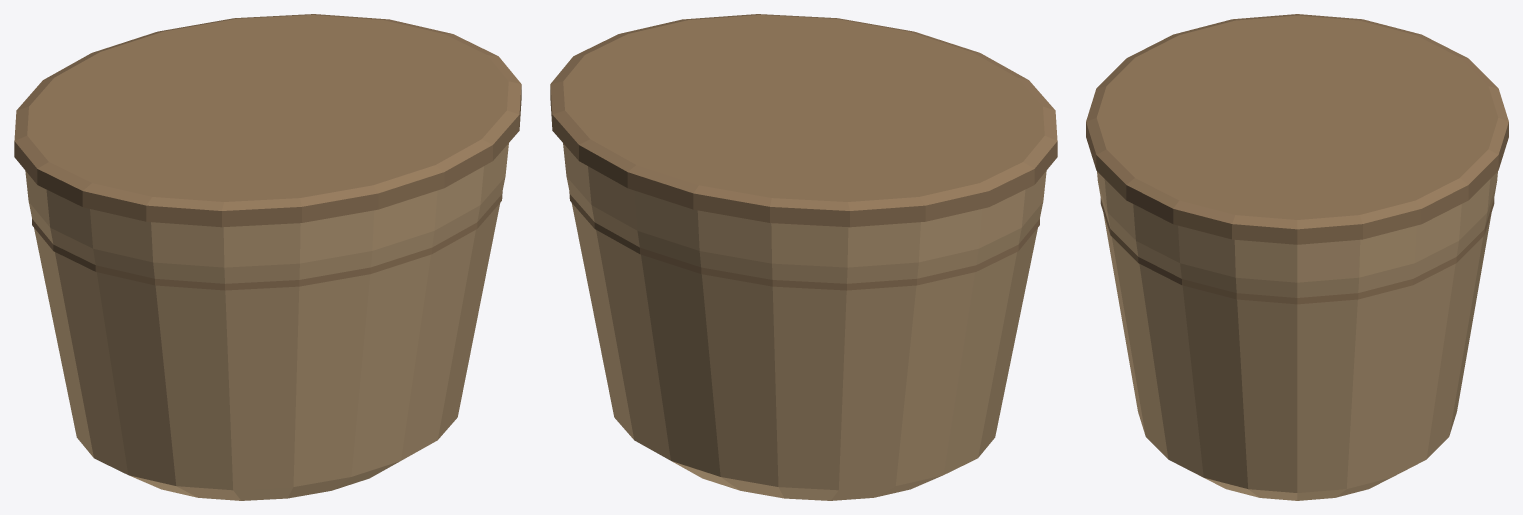
Rendered from grip_basket.glb.
The picture shows the model from 3 angles, left to right: view 1: azimuth 30°, elevation 25°; view 2: azimuth 150°, elevation 25°; view 3: azimuth 270°, elevation 25°; orthographic projection. The views are drawn at different scales.
Parts seen in each view (by area): view 1: s2_grip_basket; view 2: s2_grip_basket; view 3: s2_grip_basket.
Boxes of the visible parts, <box> form: s2_grip_basket: <box>14,14,521,500</box>; s2_grip_basket: <box>550,14,1057,500</box>; s2_grip_basket: <box>1086,14,1508,500</box>.
Size of the model in its own units: 0.358 by 0.249 by 0.2971.
